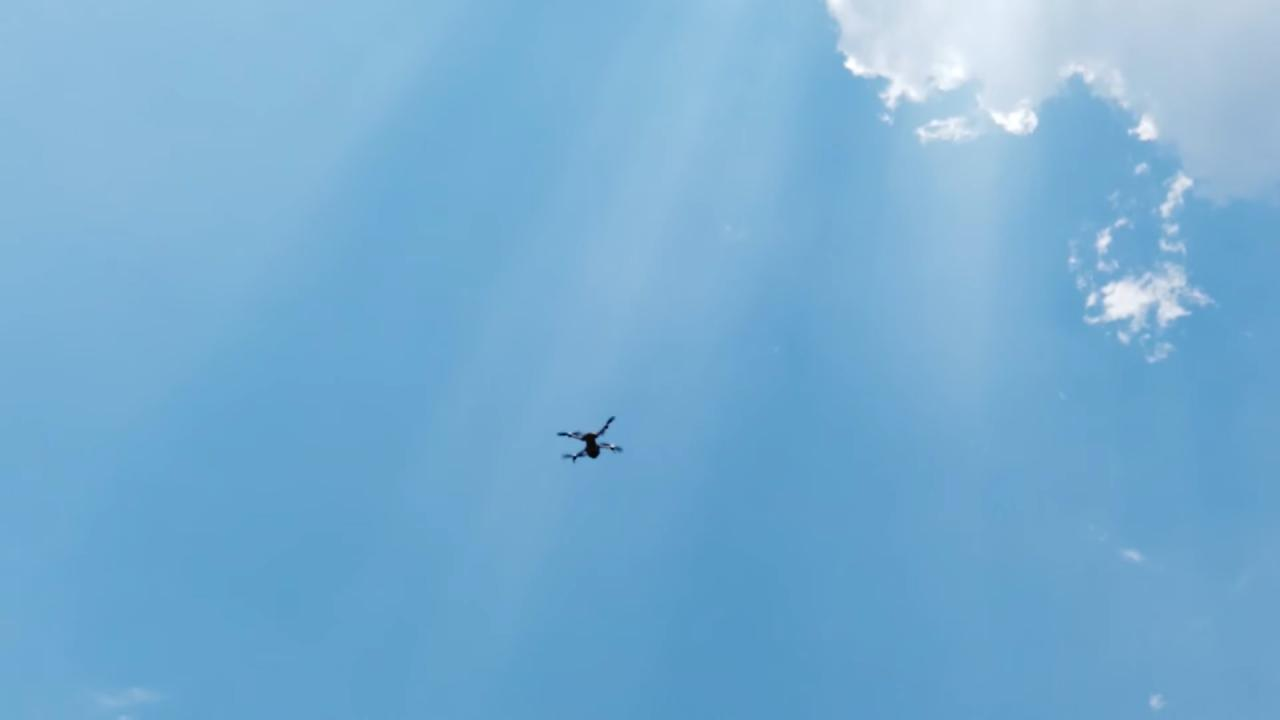Drone: (548, 404, 632, 475)
